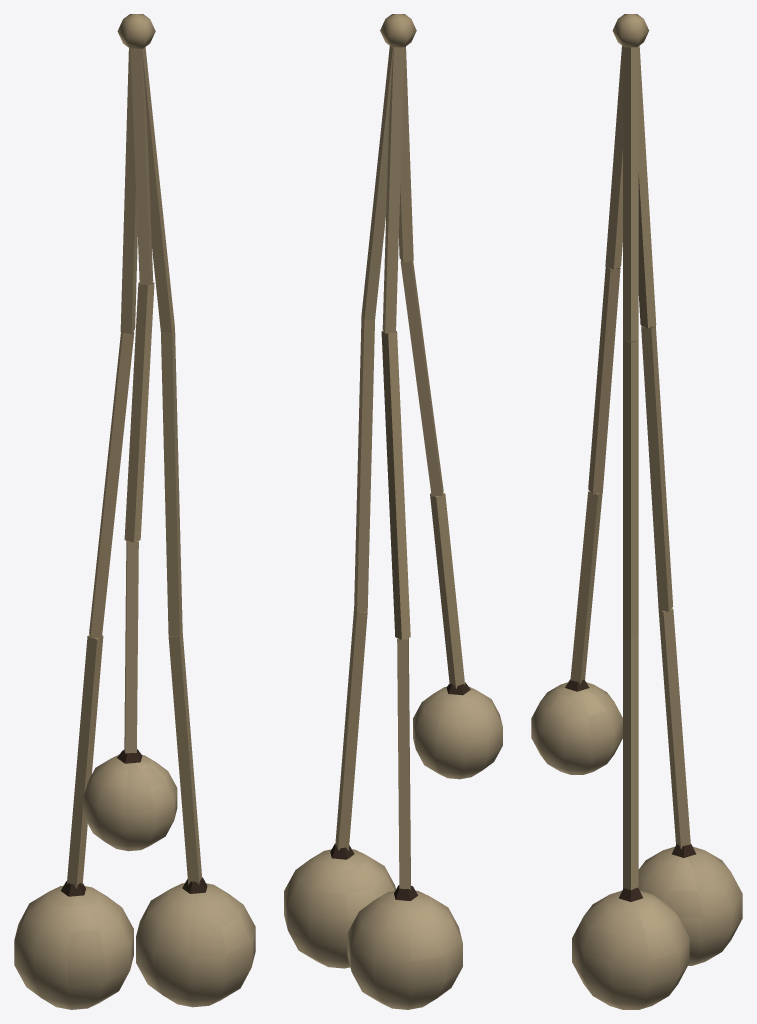
Rendered from boleadoras_colgadas.glb.
3 views of the same model, side by side, from view 1: azimuth 30°, elevation 25°; view 2: azimuth 150°, elevation 25°; view 3: azimuth 270°, elevation 25° (orthographic). The views are drawn at different scales.
Parts seen in each view (by area): view 1: BoleadorasColgadas; view 2: BoleadorasColgadas; view 3: BoleadorasColgadas.
Boxes of the visible parts, x1,y1,x2,y2 form: BoleadorasColgadas: [14, 14, 255, 1009]; BoleadorasColgadas: [284, 14, 502, 1009]; BoleadorasColgadas: [531, 14, 742, 1009].
Size of the model in its own units: 0.1647 by 0.81 by 0.1613.
